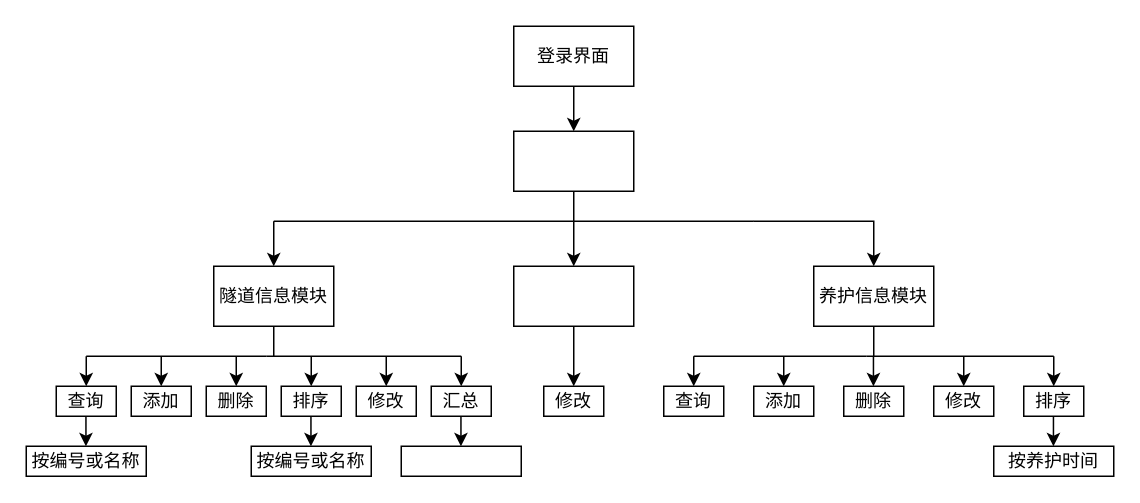
Image size: 1140x503. Some labels were removed from this diagram. Each missing label, with the centre of its shape:
"按地区总里程" belongs at point (460, 460).
"用户信息模块" belongs at point (573, 295).
"系统主界面" belongs at point (573, 160).
